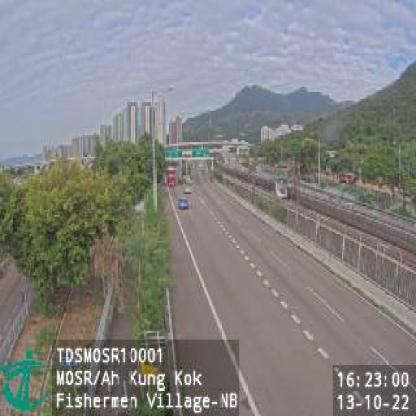Car: (178, 195, 189, 211)
